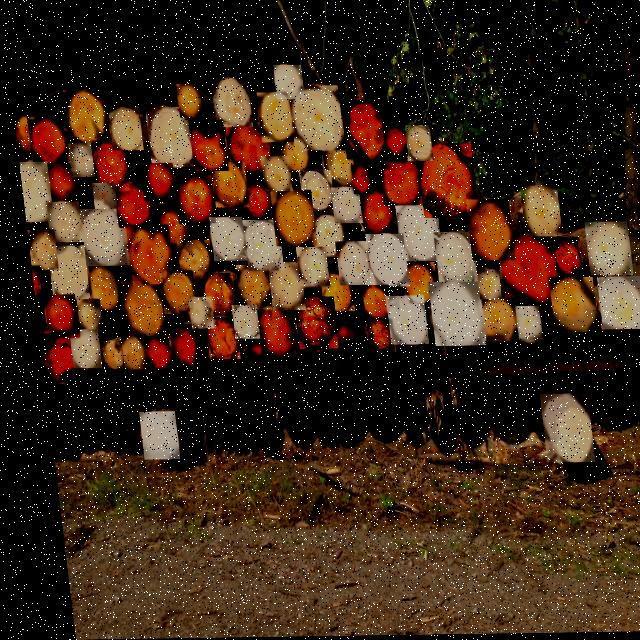wood-log: (412, 145, 474, 219), (492, 236, 557, 305), (529, 395, 584, 464), (421, 283, 478, 348), (285, 86, 341, 152), (142, 107, 192, 168), (460, 200, 509, 262), (120, 225, 168, 285), (75, 209, 124, 266), (542, 278, 591, 334), (390, 205, 437, 263), (338, 101, 383, 160), (110, 282, 158, 337), (590, 278, 639, 331), (265, 191, 311, 247), (579, 224, 626, 278), (286, 298, 331, 352), (222, 123, 269, 174), (61, 90, 106, 143), (41, 246, 85, 300), (359, 235, 402, 288), (427, 233, 471, 283), (248, 306, 290, 358), (378, 296, 421, 346), (86, 141, 128, 192), (515, 187, 557, 238), (237, 220, 278, 271), (376, 158, 418, 207), (209, 78, 250, 128), (15, 162, 49, 222), (254, 93, 294, 143), (186, 121, 225, 172), (170, 176, 211, 224), (128, 412, 169, 460), (206, 163, 245, 211), (31, 331, 66, 384), (261, 263, 298, 311), (26, 119, 64, 165), (471, 299, 510, 343), (203, 218, 241, 262), (111, 184, 149, 228), (229, 265, 264, 311), (394, 263, 432, 305), (329, 242, 365, 286), (153, 271, 189, 315), (171, 240, 208, 282), (41, 201, 78, 243), (305, 215, 340, 259), (105, 107, 140, 151), (80, 266, 114, 311), (355, 192, 391, 234), (37, 295, 72, 338), (294, 171, 330, 212), (197, 318, 232, 360), (195, 274, 230, 316), (313, 274, 348, 315), (289, 248, 323, 290), (318, 145, 352, 186), (149, 207, 184, 246), (139, 164, 173, 204), (61, 329, 94, 369), (161, 324, 192, 366), (239, 182, 271, 222), (276, 136, 308, 174), (22, 230, 52, 270), (327, 312, 358, 350), (547, 239, 577, 278), (42, 163, 72, 201), (326, 189, 357, 225), (271, 66, 303, 100), (257, 157, 288, 192), (401, 126, 430, 162), (356, 286, 385, 321), (112, 335, 141, 370), (508, 308, 535, 344), (358, 320, 387, 353), (224, 306, 252, 340), (64, 143, 91, 177), (136, 337, 163, 370), (174, 84, 200, 118), (379, 123, 404, 158), (181, 297, 208, 329), (69, 299, 95, 330), (470, 271, 495, 301), (87, 183, 113, 209), (11, 114, 27, 154), (347, 166, 369, 195), (95, 341, 115, 369), (236, 339, 257, 364), (25, 266, 37, 304), (633, 287, 640, 324)
